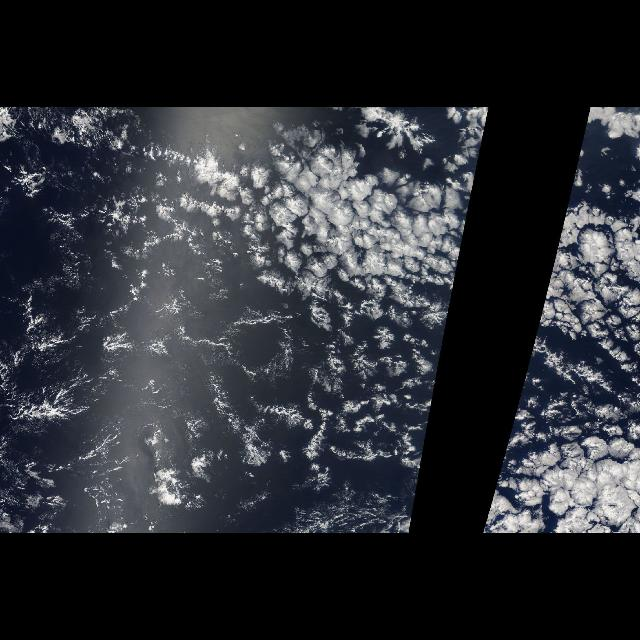Flower: (167, 117, 487, 533), (482, 117, 640, 533)
Gravel: (222, 315, 416, 475)
